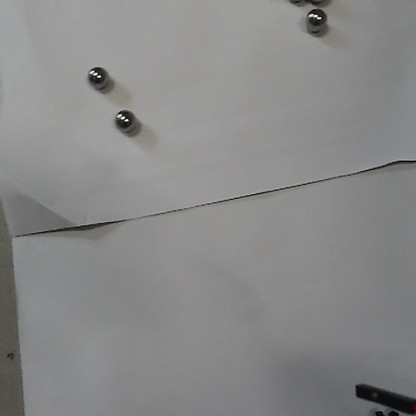ironball: (301, 7, 329, 34), (83, 66, 111, 90), (113, 108, 137, 135)
